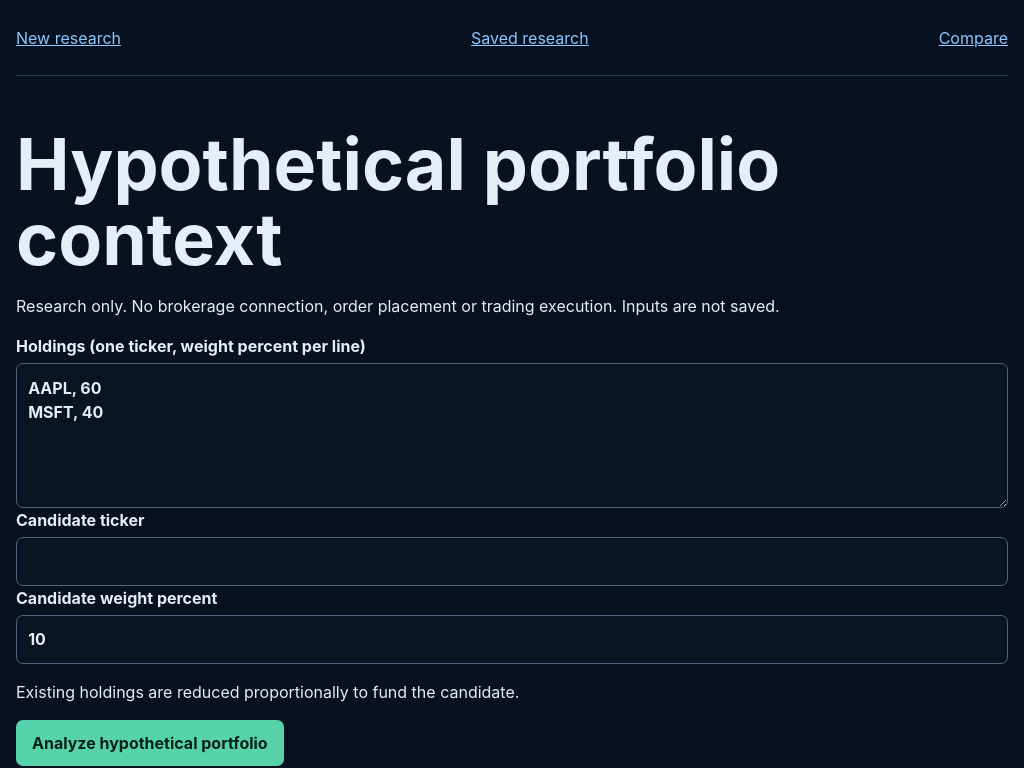
rejects invalid totals without submitting
Replace the text in the text box labelled "Holdings (one ticker, weight percent per line)" with "AAPL, 50" at (512, 436), box [16,363,1008,508]
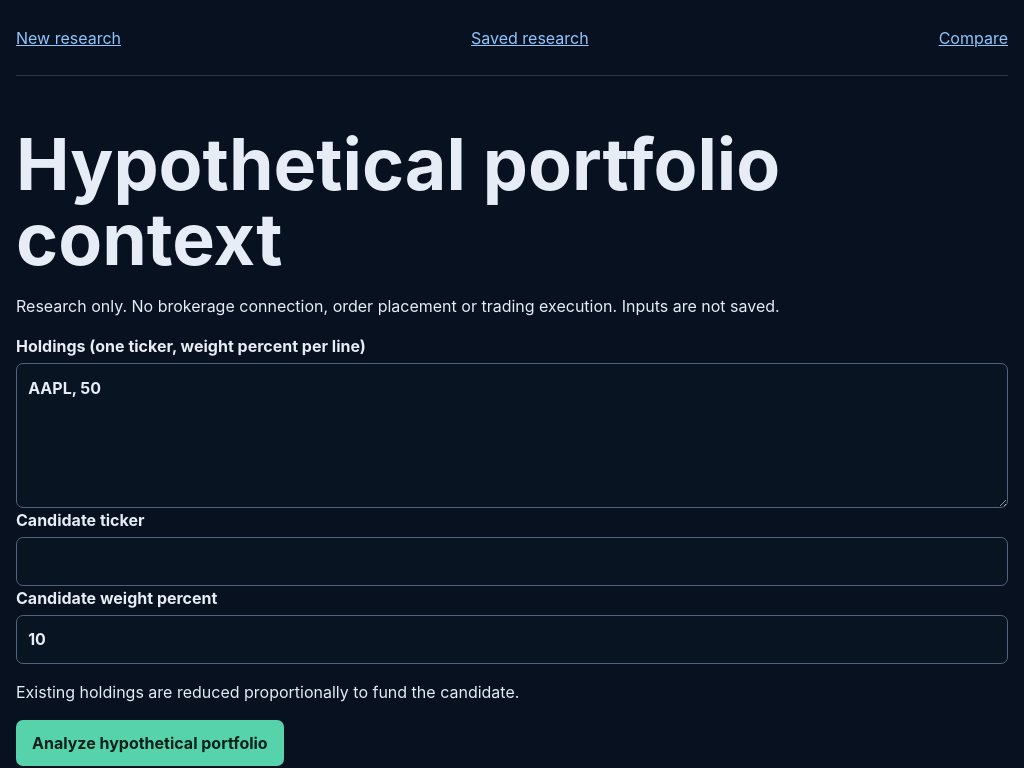
Type "MSFT" into the field labelled "Candidate ticker" at (512, 562), box [16,537,1008,586]
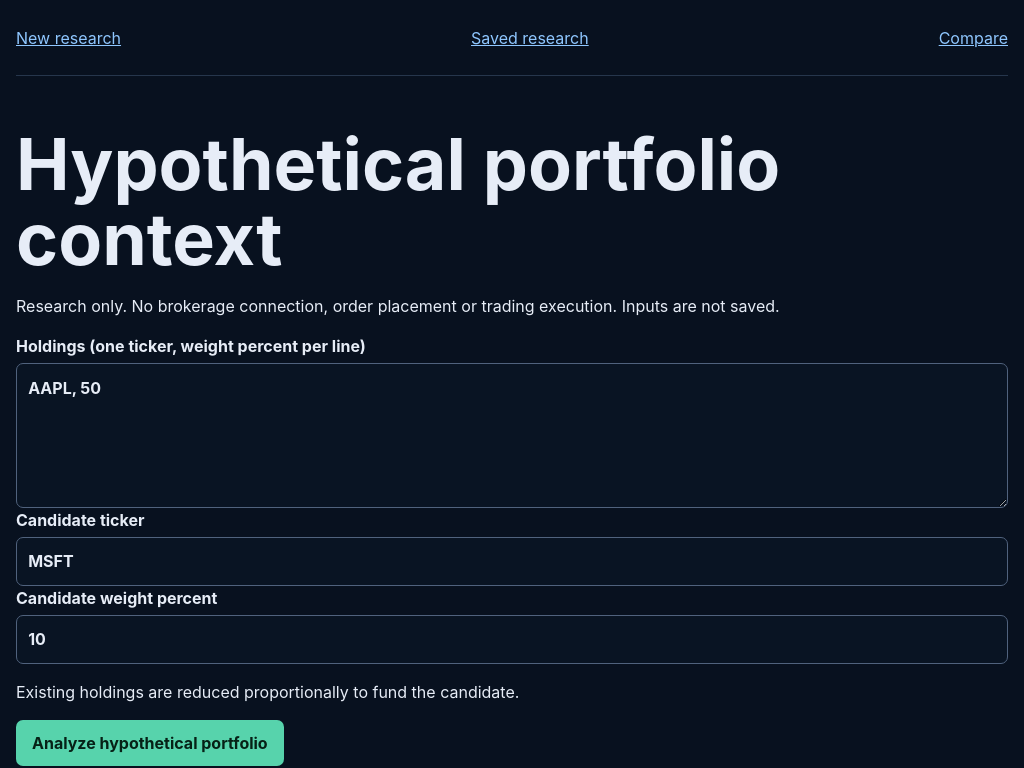
Click the button "Analyze hypothetical portfolio" at (150, 743), box [16,720,284,766]
(page scrolled)
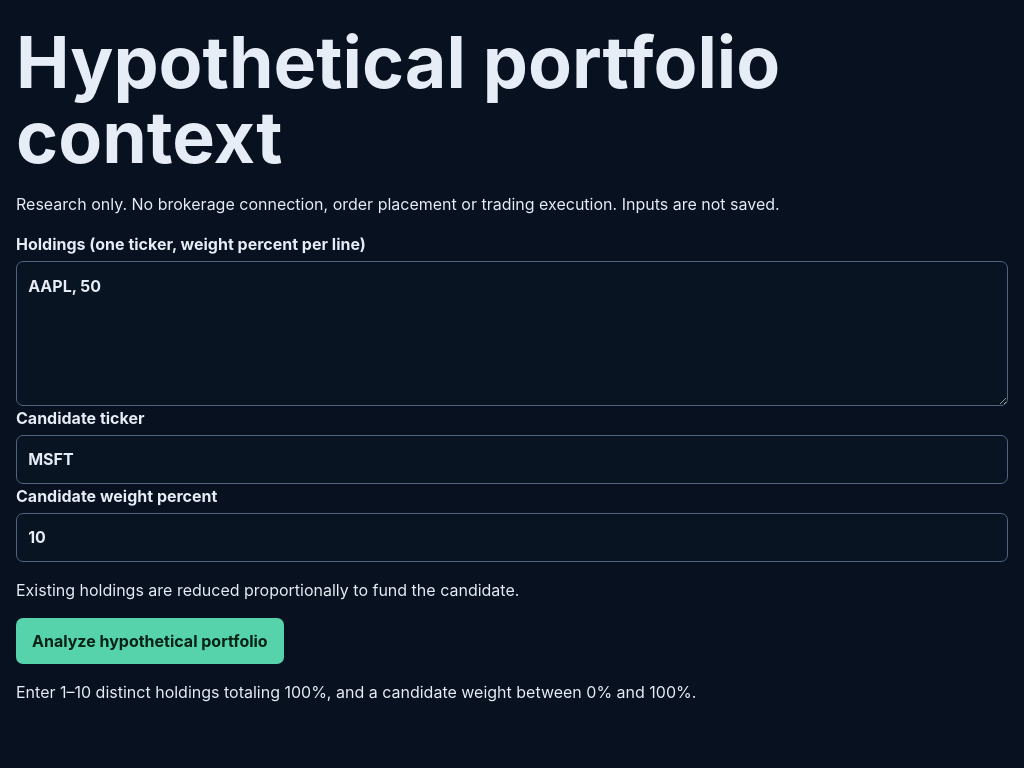
Expected: the message shows "totaling 100%", [16,682,696,702]
